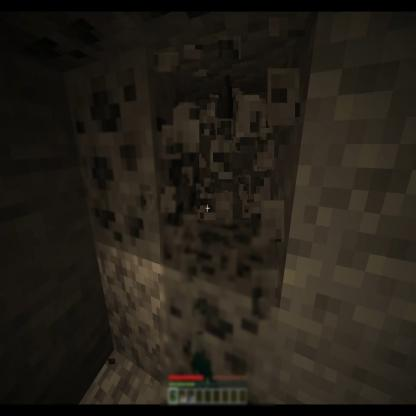coal ore: (64, 58, 196, 259), (160, 220, 275, 416)
